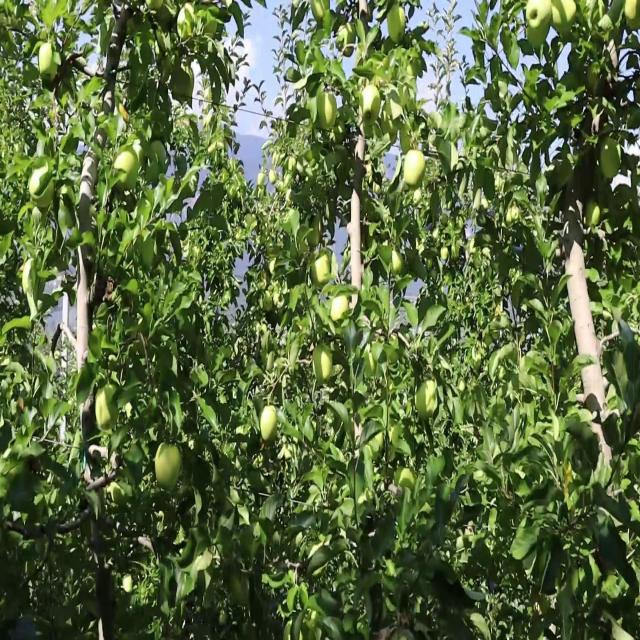apple: (156, 447, 183, 491), (404, 149, 426, 190), (316, 92, 338, 132), (96, 383, 113, 434), (172, 71, 196, 105), (416, 383, 437, 420), (360, 85, 381, 121), (116, 149, 139, 181), (528, 21, 551, 53), (336, 21, 356, 57), (552, 0, 576, 30), (260, 405, 278, 443), (388, 7, 407, 43), (400, 120, 419, 156), (40, 42, 56, 84), (316, 348, 333, 386), (32, 163, 49, 201), (528, 1, 551, 28), (312, 255, 332, 286), (180, 7, 196, 43), (308, 213, 324, 249), (40, 42, 55, 76), (332, 298, 349, 325), (332, 120, 347, 146), (588, 199, 601, 228), (392, 248, 404, 276), (400, 469, 416, 489), (148, 0, 165, 14), (368, 348, 376, 377), (360, 1, 372, 20), (312, 7, 325, 23), (120, 106, 131, 124), (264, 291, 272, 313), (376, 433, 384, 448), (224, 291, 232, 306), (444, 248, 449, 261)
